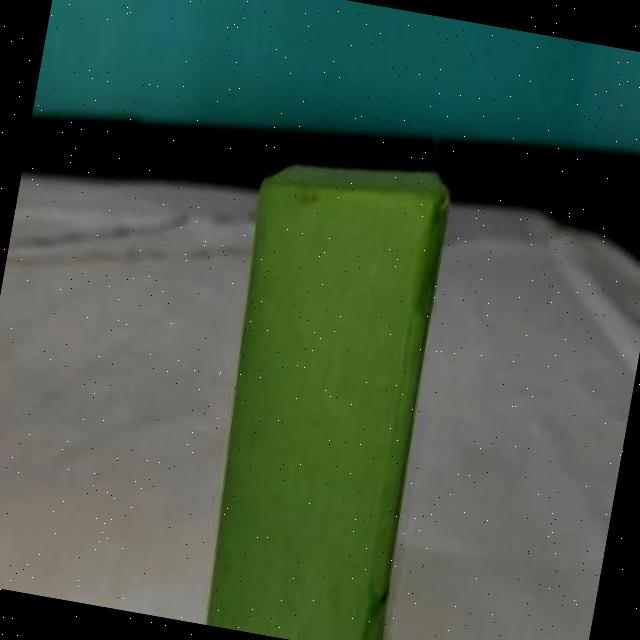greenbox: (182, 134, 457, 640)
